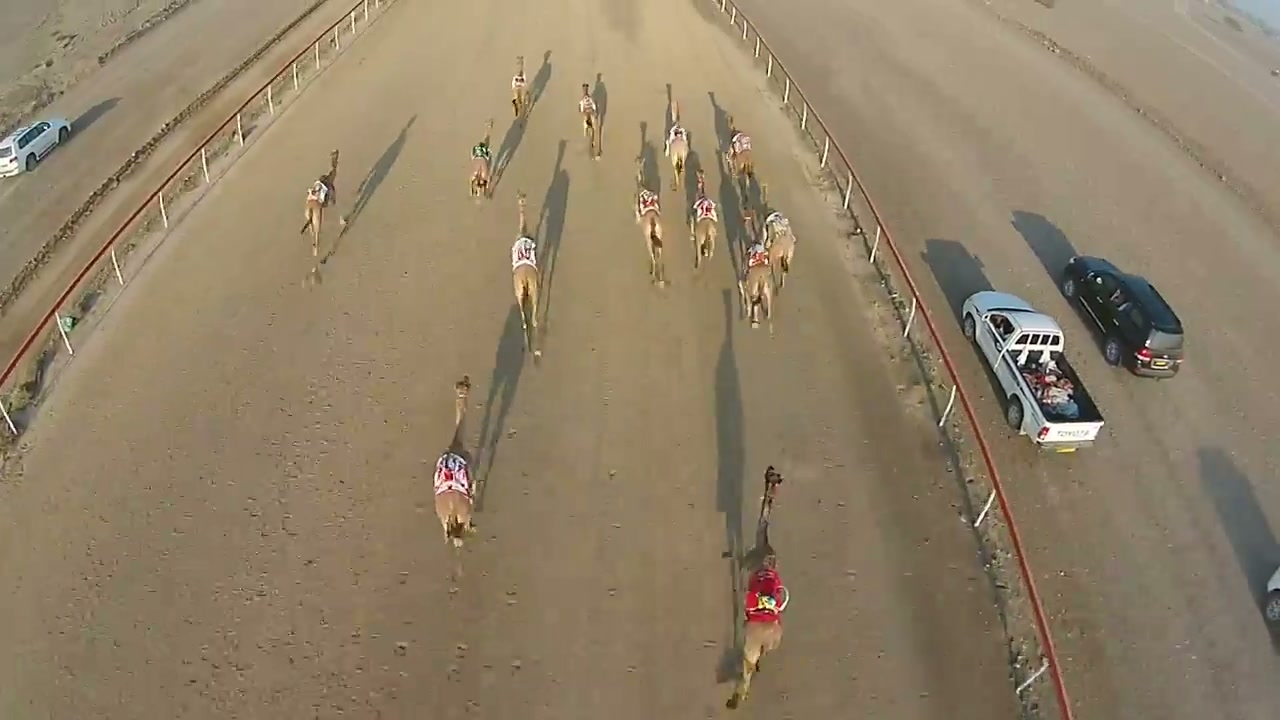animal_footprint: (206, 298, 382, 704), (488, 372, 684, 691), (362, 558, 535, 719)
